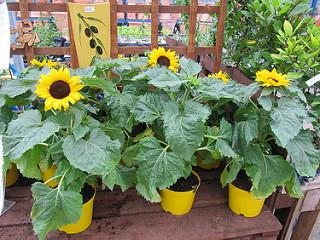sunflower: (35, 68, 83, 110), (148, 48, 179, 73), (255, 67, 289, 87), (209, 68, 228, 84)
